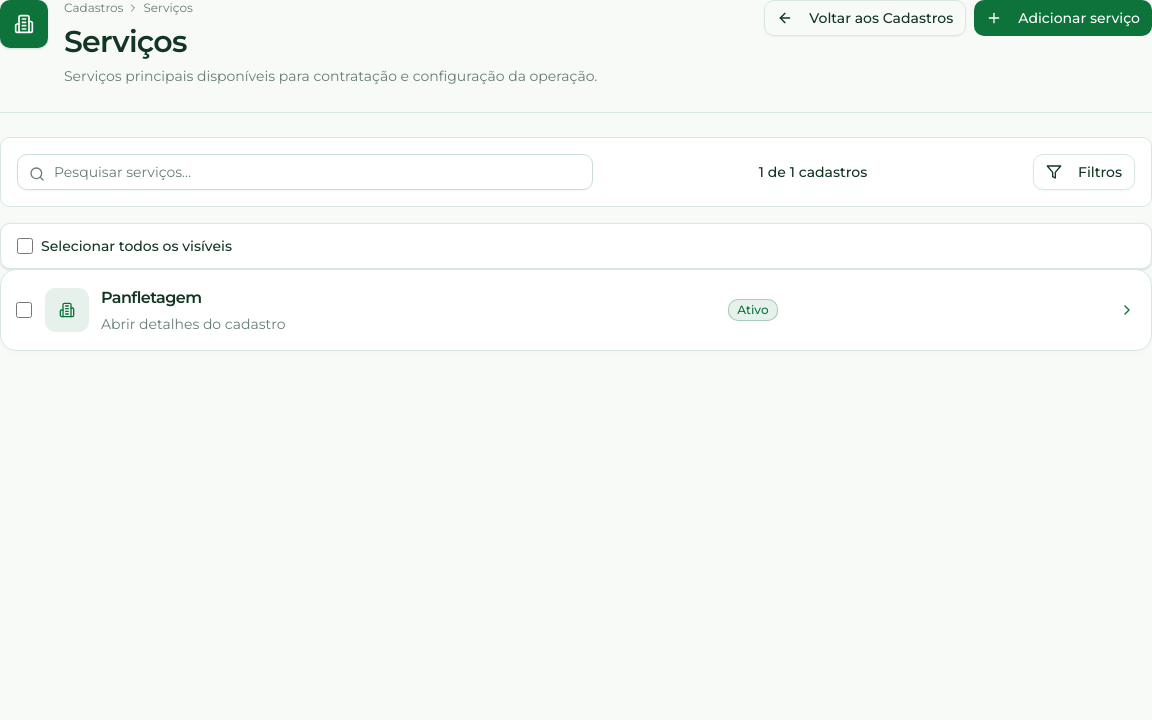
Test: cadastros genéricos › abre o editor de criação em um diálogo para um cadastro genérico
Click the button "Adicionar serviço": coordinates (1063, 18) [974,0,1151,36]
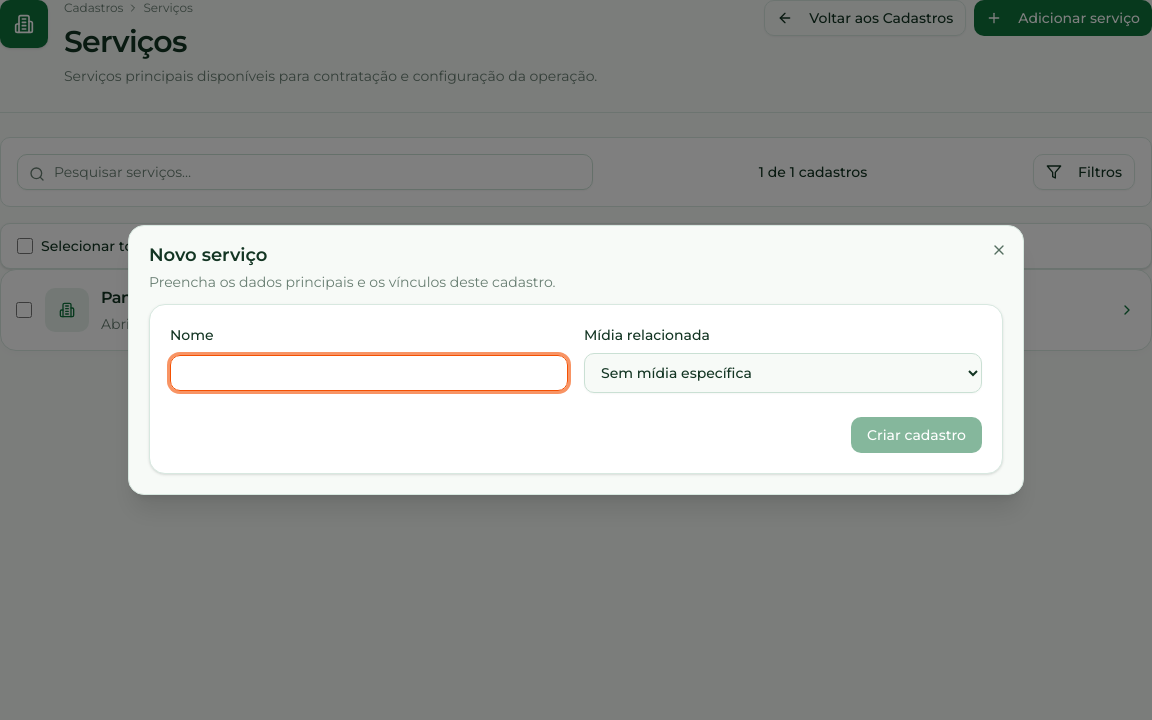
Now the dialog shows "Novo serviço", box [128,225,1024,495]
Now the button "Criar cadastro" is shown, box [851,417,982,453]
